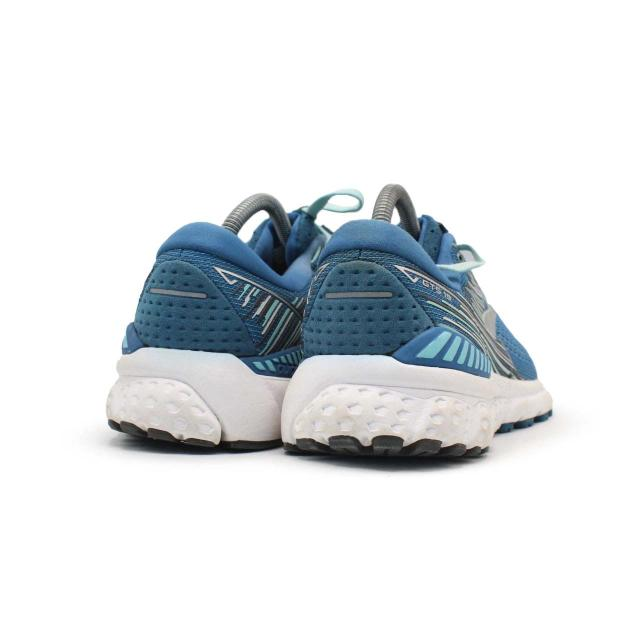heel: (121, 227, 300, 377), (299, 221, 480, 369)
midsole: (283, 354, 551, 460), (103, 348, 289, 448)
